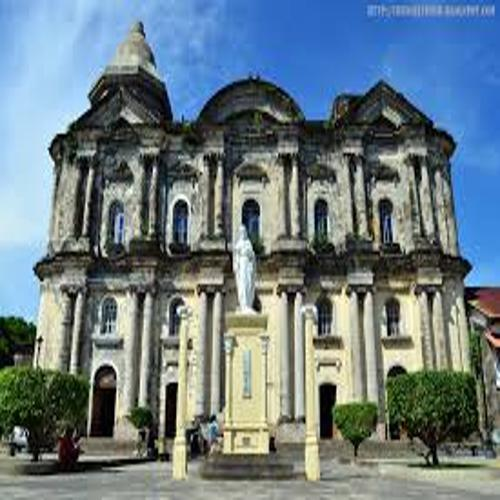Taal Basilica Church: (31, 13, 474, 453)
